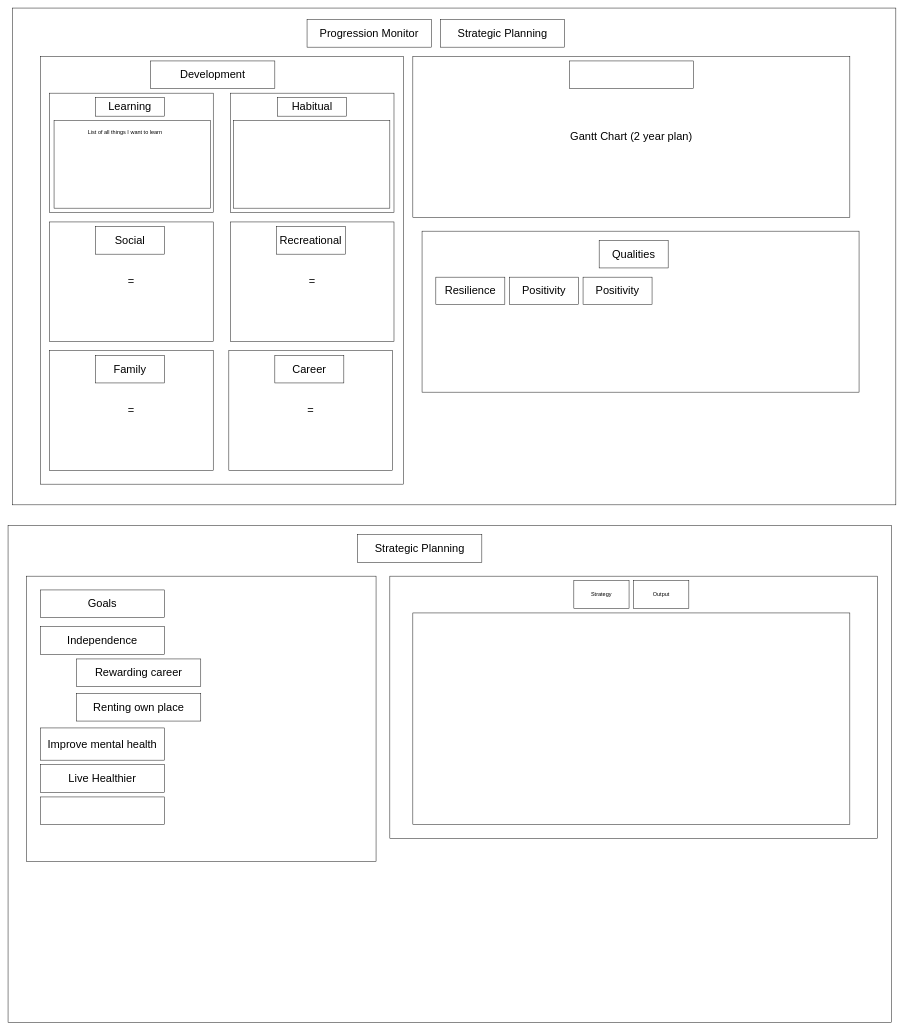
This 904x1030 diagram has some shape labels left out. The centre of each missing label's shape, as x and y in pixels:
"Establish a team" goes at point 102,810.
"Progress" goes at point 631,74.
